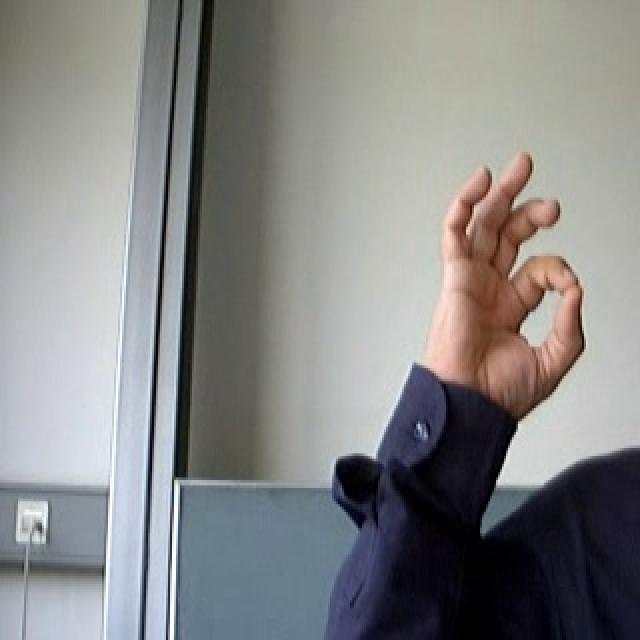F: (391, 130, 603, 419)
